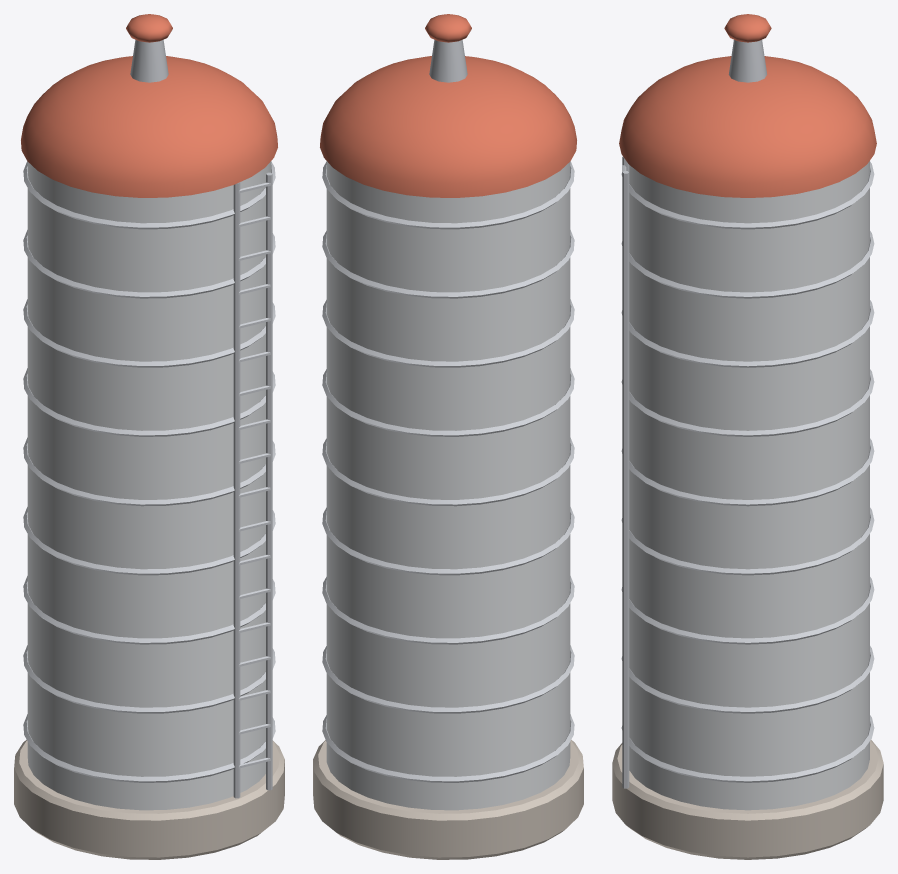
The model's file is bg_silo.glb.
The picture shows the model from 3 angles, left to right: view 1: azimuth 30°, elevation 25°; view 2: azimuth 150°, elevation 25°; view 3: azimuth 270°, elevation 25°; orthographic projection.
Parts seen in each view (by area): view 1: bg_silo; view 2: bg_silo; view 3: bg_silo.
Part boxes in pixels (x1,y1,x2,y2): bg_silo: (14, 14, 284, 859); bg_silo: (313, 14, 583, 859); bg_silo: (612, 14, 883, 859).
Size of the model in its own units: 1.6 by 5.12 by 1.6.
